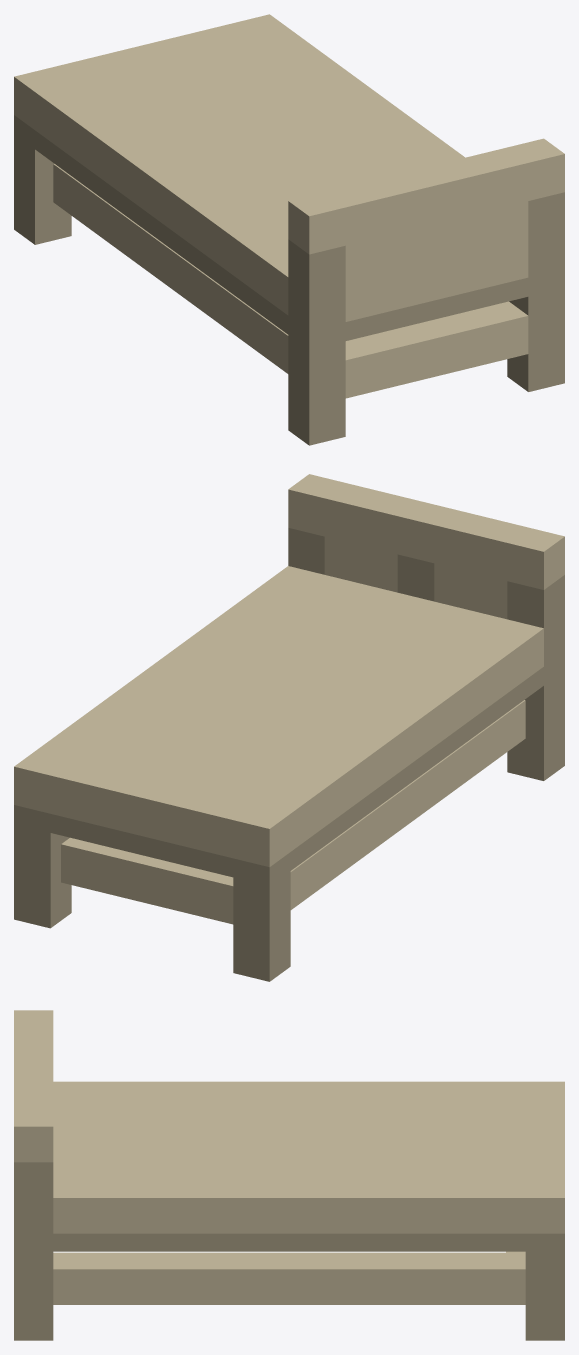
Rendered from banco_carpintero_pino_01.glb.
3 views of the same model, one above another, from view 1: azimuth 30°, elevation 25°; view 2: azimuth 150°, elevation 25°; view 3: azimuth 270°, elevation 25° (orthographic). The views are drawn at different scales.
Parts seen in each view (by area): view 1: banco_carpintero_pino; view 2: banco_carpintero_pino; view 3: banco_carpintero_pino.
Boxes of the visible parts, left/top/right/bottom form: banco_carpintero_pino: left=14, top=14, right=564, bottom=445; banco_carpintero_pino: left=14, top=474, right=564, bottom=981; banco_carpintero_pino: left=14, top=1010, right=564, bottom=1340.
Bounding box in the file's own units: 1 × 0.8571 × 2.
